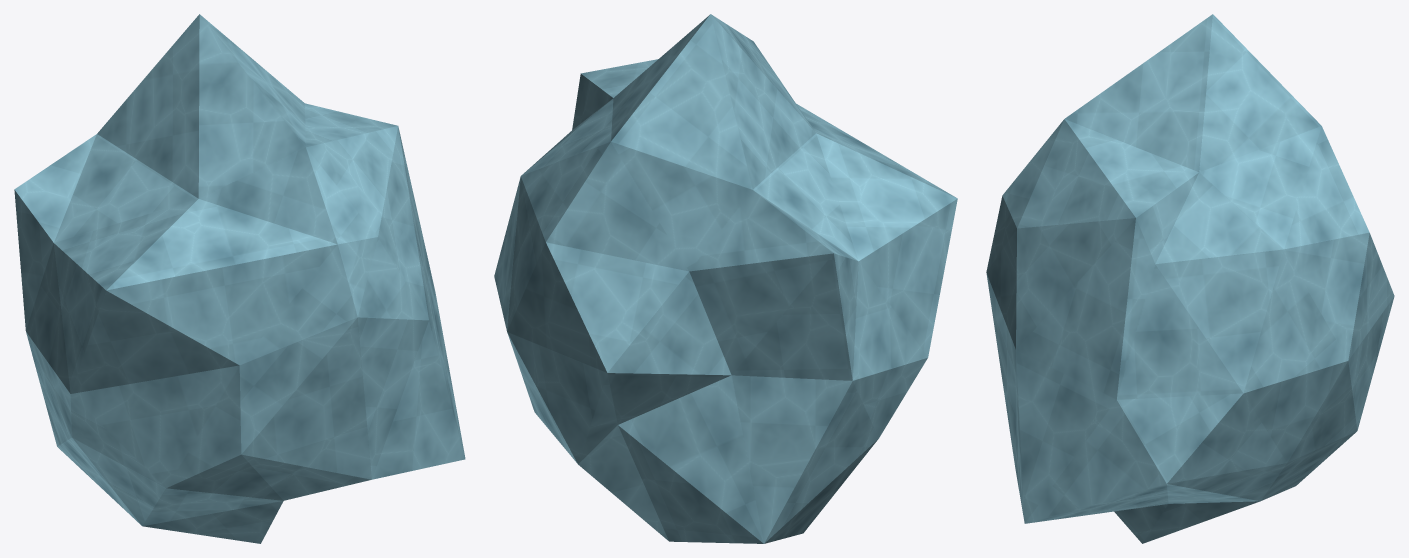
File: iceberg_4.glb
3 views of the same model, side by side, from view 1: azimuth 30°, elevation 25°; view 2: azimuth 150°, elevation 25°; view 3: azimuth 270°, elevation 25° (orthographic). The views are drawn at different scales.
Parts seen in each view (by area): view 1: iceberg_4; view 2: iceberg_4; view 3: iceberg_4.
Boxes of the visible parts, x1,y1,x2,y2 form: iceberg_4: (14, 14, 465, 543); iceberg_4: (494, 14, 957, 543); iceberg_4: (986, 14, 1394, 543).
Bounding box in the file's own units: 3.05 × 3.91 × 2.8.
1 material, 1 textured.
